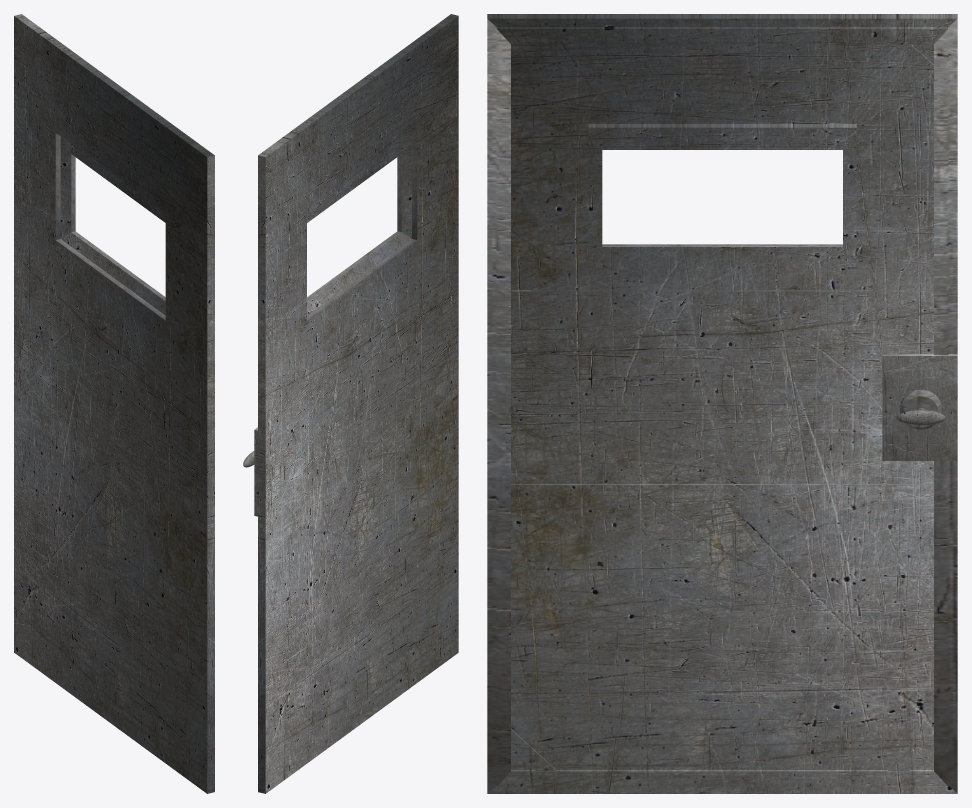
File: Door.obj
3 views of the same model, side by side, from view 1: azimuth 30°, elevation 25°; view 2: azimuth 150°, elevation 25°; view 3: azimuth 270°, elevation 25° (orthographic). The views are drawn at different scales.
Visible parts, largest first — view 1: Door; view 2: Door; view 3: Door.
Part boxes in pixels (x1,y1,x2,y2): Door: [14, 14, 214, 793]; Door: [243, 14, 458, 793]; Door: [487, 14, 957, 793].
Size of the model in its own units: 0.4119 by 8.21 by 4.51.
Materials: 2 (2 with a texture image).
